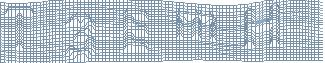3: (63, 13, 98, 62)
E: (120, 8, 152, 56)
H: (242, 4, 282, 50)
T: (4, 5, 35, 52)
m: (175, 9, 221, 46)
